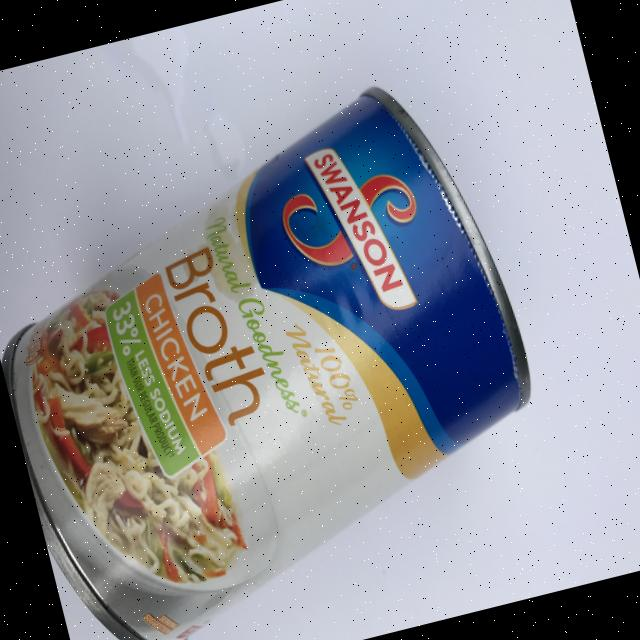metal: (0, 63, 576, 640)
